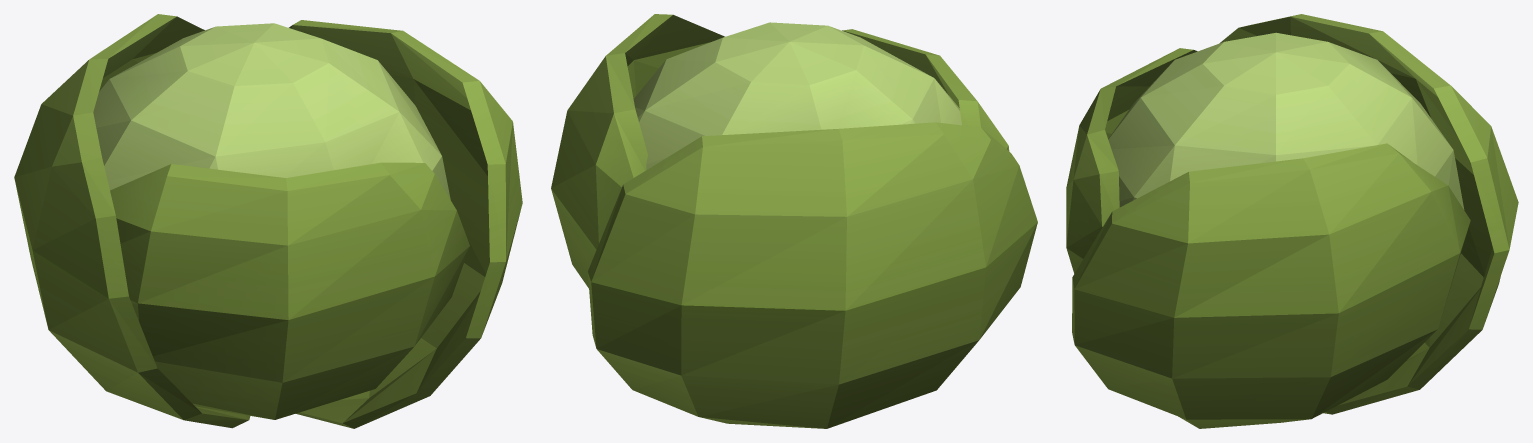
Rendered from crop_cabbage_stage2.glb.
3 views of the same model, side by side, from view 1: azimuth 30°, elevation 25°; view 2: azimuth 150°, elevation 25°; view 3: azimuth 270°, elevation 25° (orthographic). The views are drawn at different scales.
Visible parts, largest first — view 1: crop_cabbage_stage2; view 2: crop_cabbage_stage2; view 3: crop_cabbage_stage2.
Boxes of the visible parts, left/top/right/bottom form: crop_cabbage_stage2: left=14, top=14, right=522, bottom=428; crop_cabbage_stage2: left=551, top=14, right=1037, bottom=428; crop_cabbage_stage2: left=1066, top=14, right=1518, bottom=428.
Bounding box in the file's own units: 0.2079 × 0.17 × 0.2013.
1 material, 1 textured.
